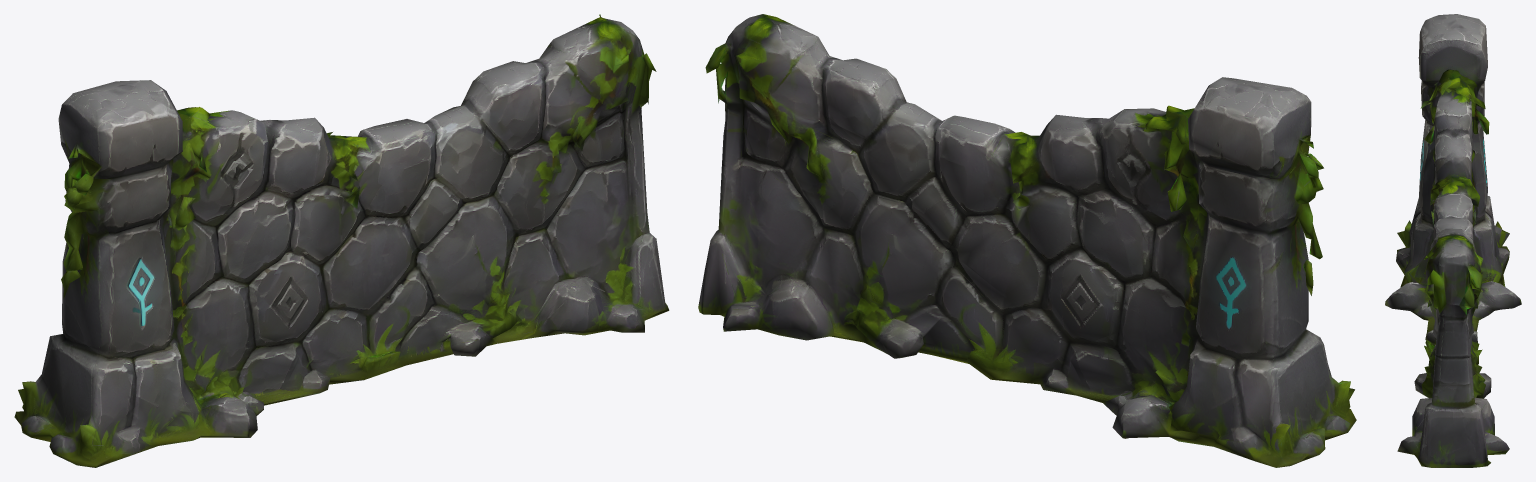
File: muro_izq.fbx
3 views of the same model, side by side, from view 1: azimuth 30°, elevation 25°; view 2: azimuth 150°, elevation 25°; view 3: azimuth 270°, elevation 25° (orthographic). The views are drawn at different scales.
Parts seen in each view (by area): view 1: Mesh_0; view 2: Mesh_0; view 3: Mesh_0.
Part boxes in pixels (x1=…): Mesh_0: x1=14, y1=14, x2=669, y2=467; Mesh_0: x1=698, y1=14, x2=1356, y2=467; Mesh_0: x1=1385, y1=14, x2=1521, y2=467.
Bounding box in the file's own units: 192 × 101 × 49.39.
1 material, 1 textured.
